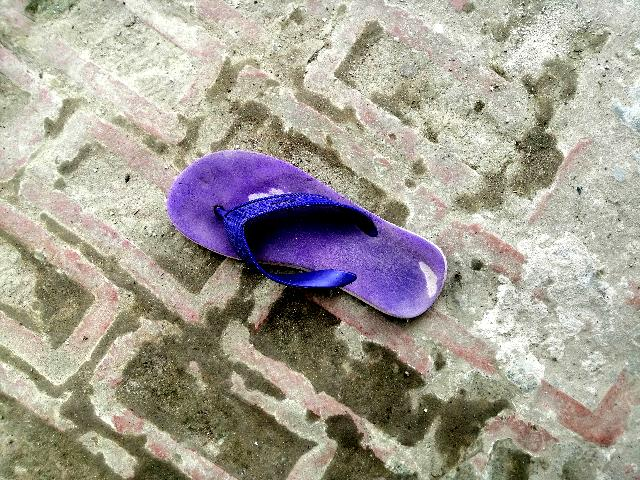sandal: (122, 101, 488, 349)
